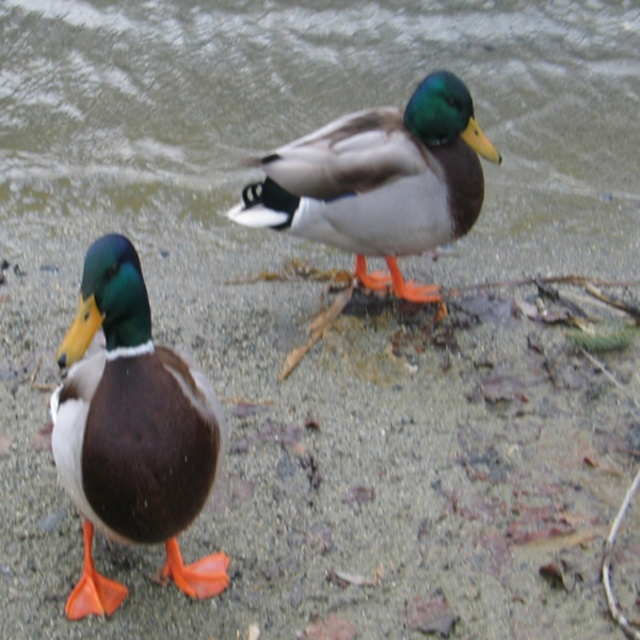Duck: (231, 60, 505, 338), (50, 228, 230, 622)
